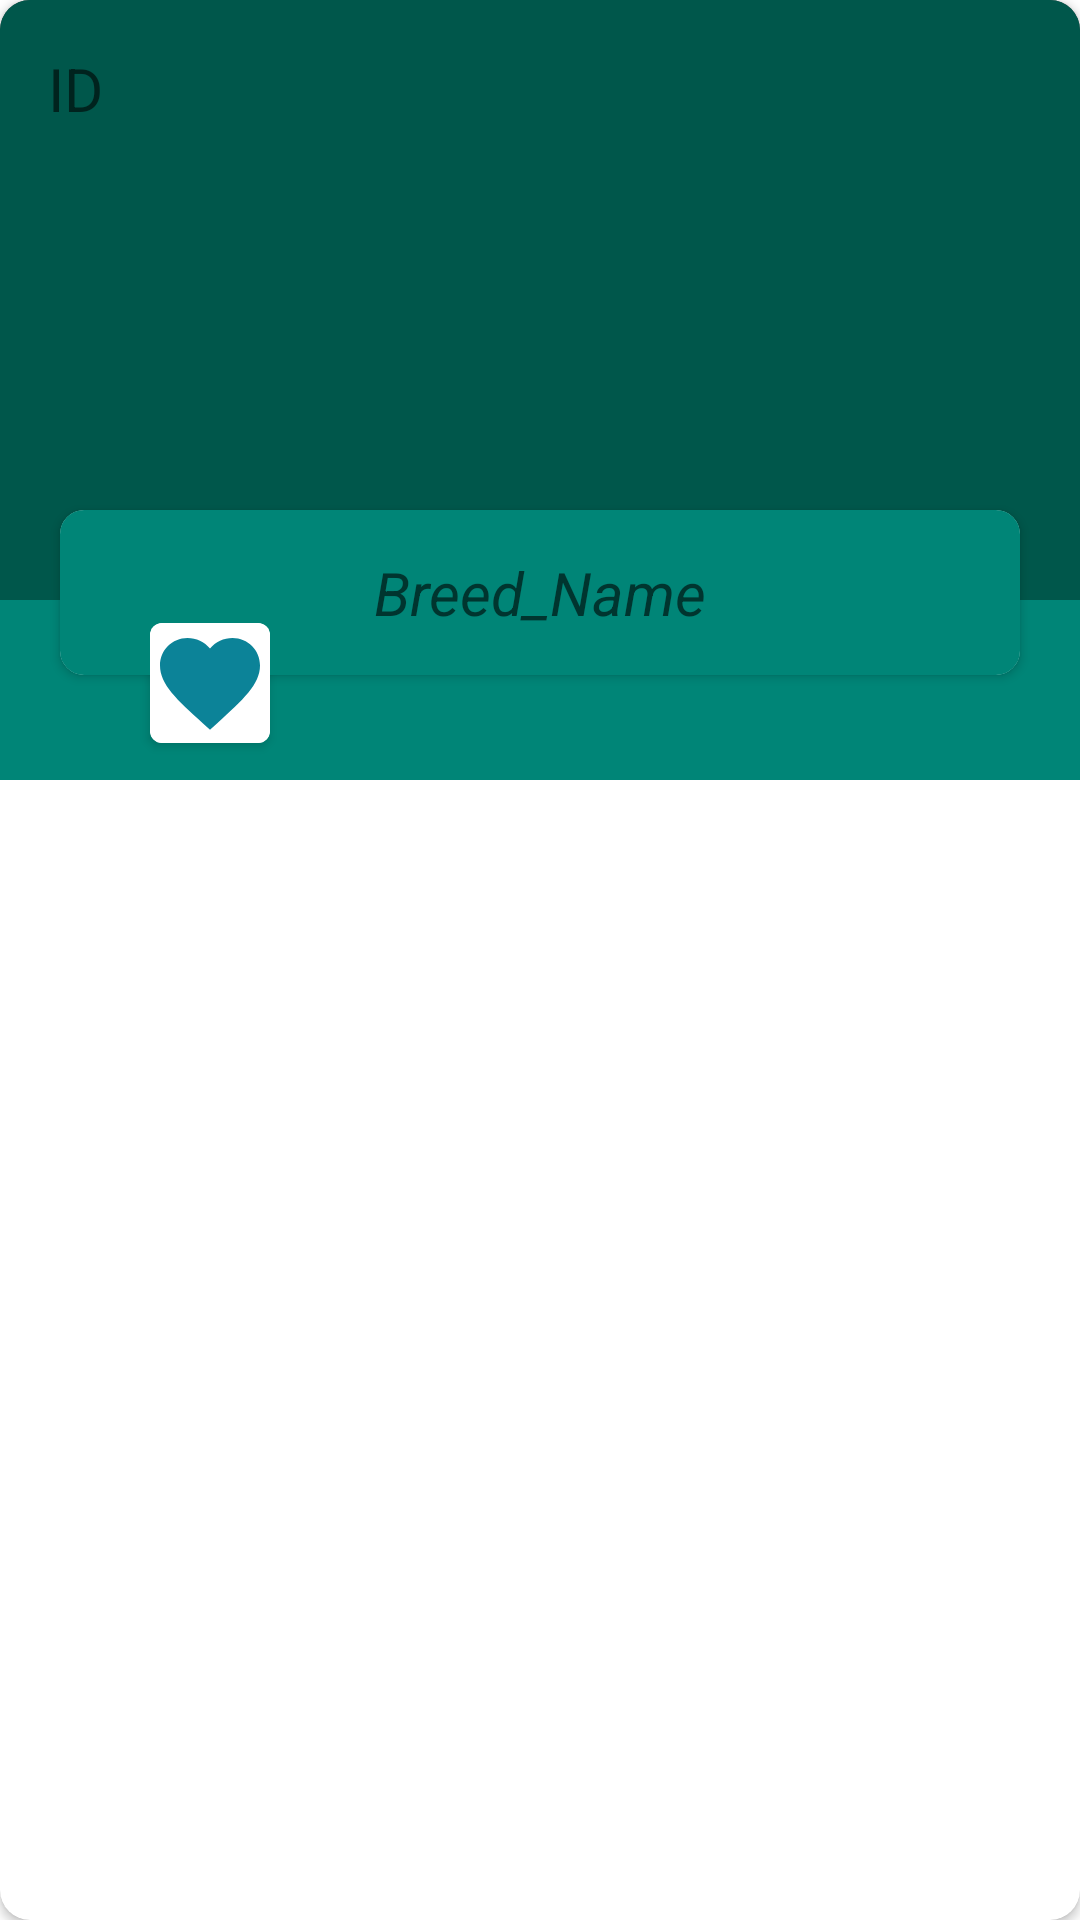

Where icons sit on this 1080px×1920px app screen, as [left=x1, top=y1, right=x2, bottom=y2]:
favorite: [left=150, top=623, right=270, bottom=743]
